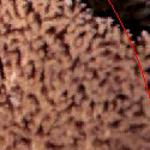alive: (2, 2, 143, 147)
